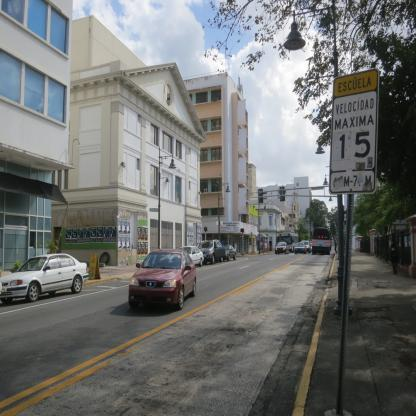Car: (1, 249, 89, 304), (119, 252, 192, 314), (177, 243, 204, 270), (199, 240, 216, 264), (296, 241, 306, 257), (276, 240, 286, 255), (227, 246, 237, 259), (305, 240, 311, 254)
